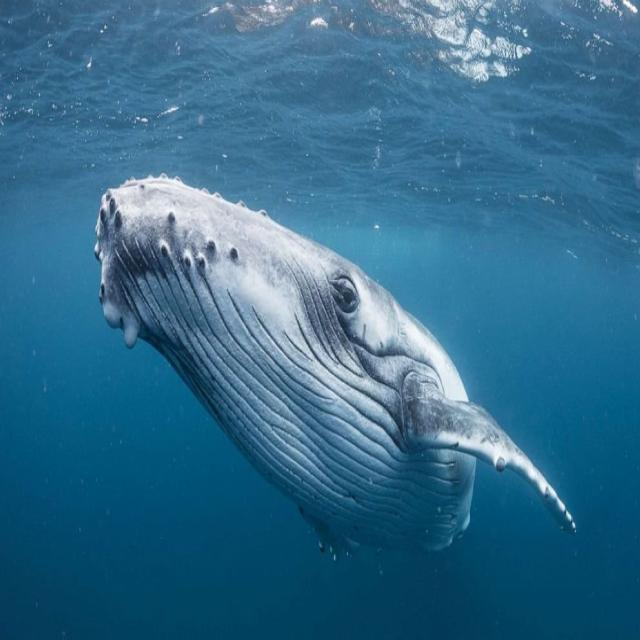whale: (94, 177, 575, 551)
